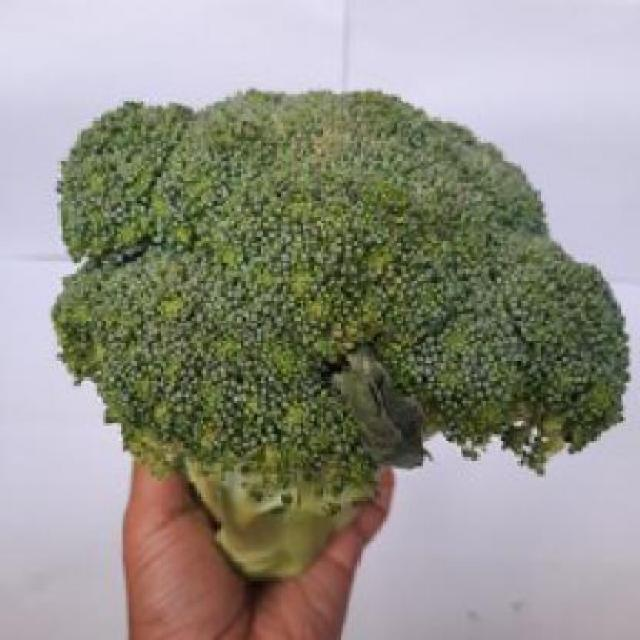broccoli: (57, 107, 612, 564)
